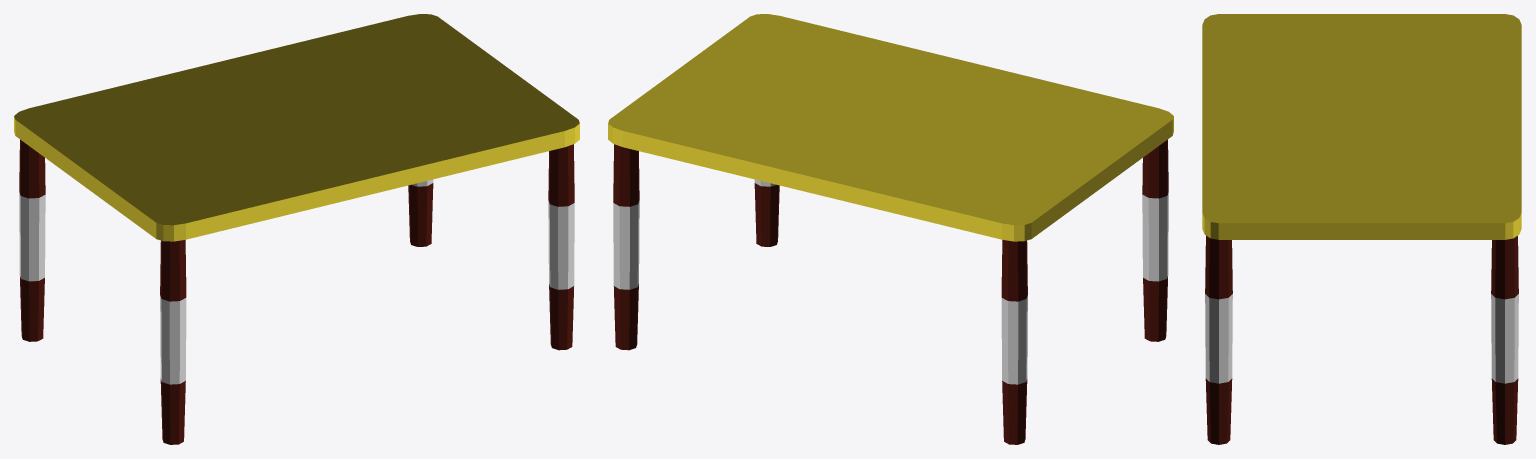
The model's file is Table 1.fbx.
The picture shows the model from 3 angles, left to right: view 1: azimuth 30°, elevation 25°; view 2: azimuth 150°, elevation 25°; view 3: azimuth 270°, elevation 25°; orthographic projection.
Parts seen in each view (by area): view 1: Cube; view 2: Cube; view 3: Cube.
Boxes of the visible parts, bbox=[...] form: Cube: bbox=[14, 14, 579, 444]; Cube: bbox=[608, 14, 1173, 444]; Cube: bbox=[1202, 14, 1521, 444].
Bounding box in the file's own units: 1.04 × 0.8105 × 1.61.
